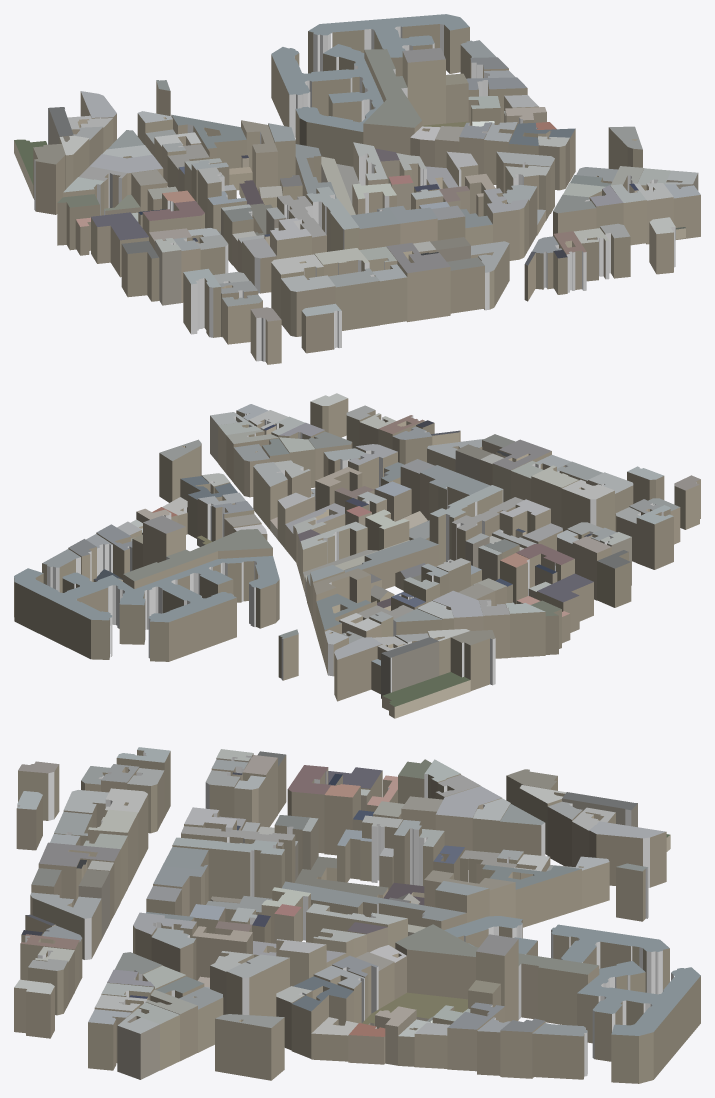
3 views of the same model, one above another, from view 1: azimuth 30°, elevation 25°; view 2: azimuth 150°, elevation 25°; view 3: azimuth 270°, elevation 25° (orthographic). The views are drawn at different scales.
Visible parts, largest first — view 1: tuile; view 2: tuile; view 3: tuile.
Boxes of the visible parts, left/top/right/bottom form: tuile: left=14, top=14, right=700, bottom=364; tuile: left=14, top=393, right=700, bottom=718; tuile: left=14, top=747, right=700, bottom=1083.
Size of the model in its own units: 265 by 38.18 by 278.
